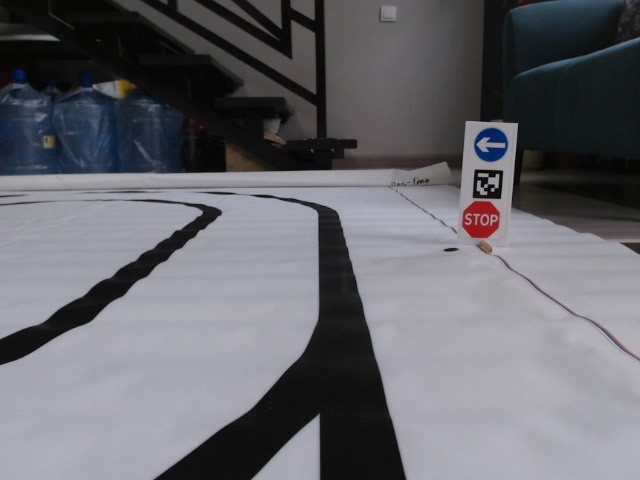Stop: (463, 201, 499, 240)
